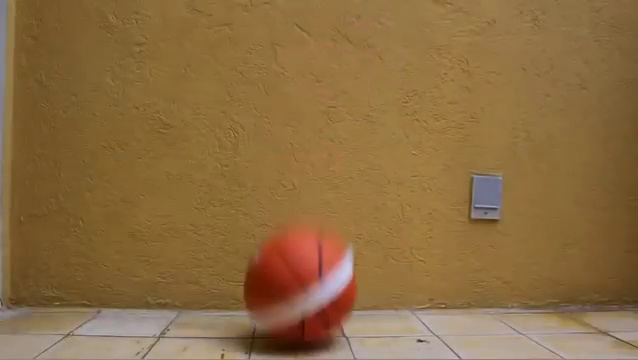ball: (242, 224, 361, 341)
